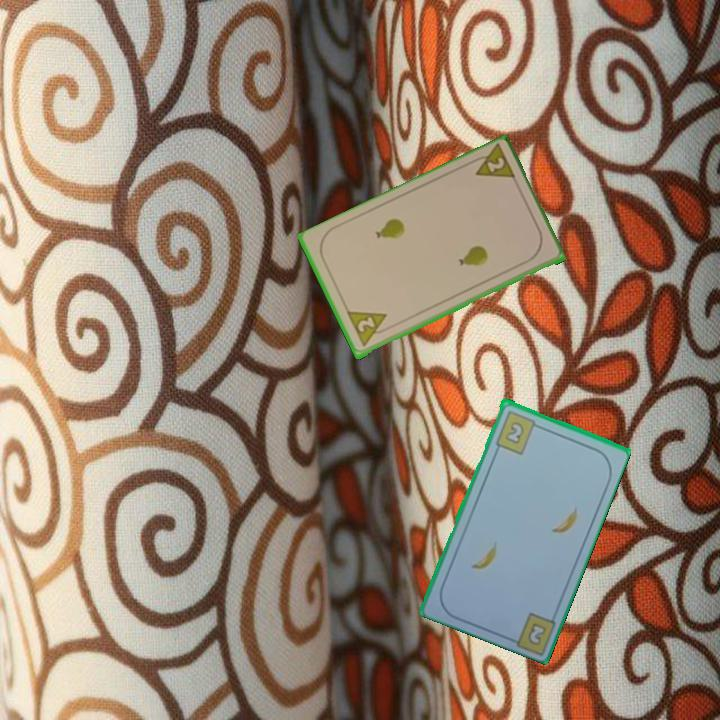2b: (492, 407, 543, 457), (524, 619, 549, 648)
2p: (465, 142, 519, 184), (344, 308, 394, 350)
